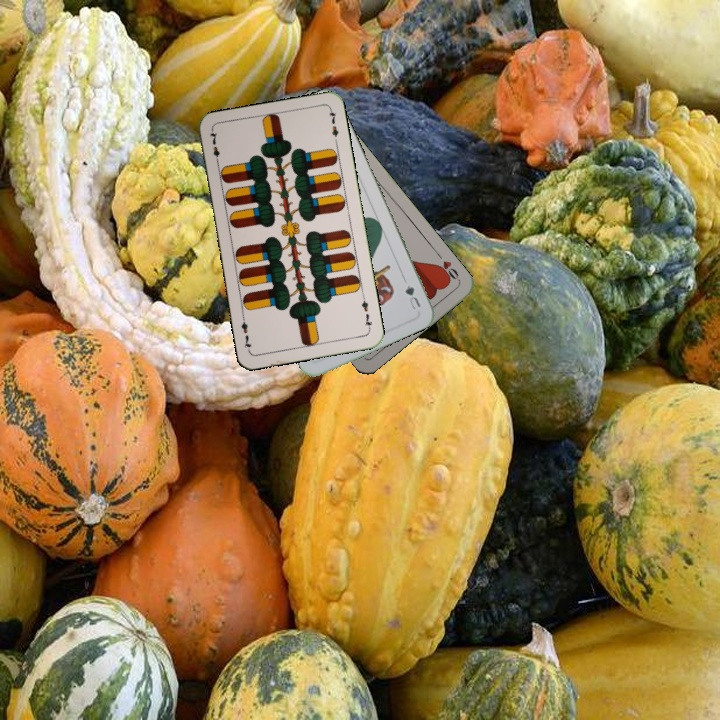E7: (357, 292, 375, 332), (206, 127, 222, 168)
GU: (400, 275, 423, 312)
HO: (432, 248, 462, 284)
